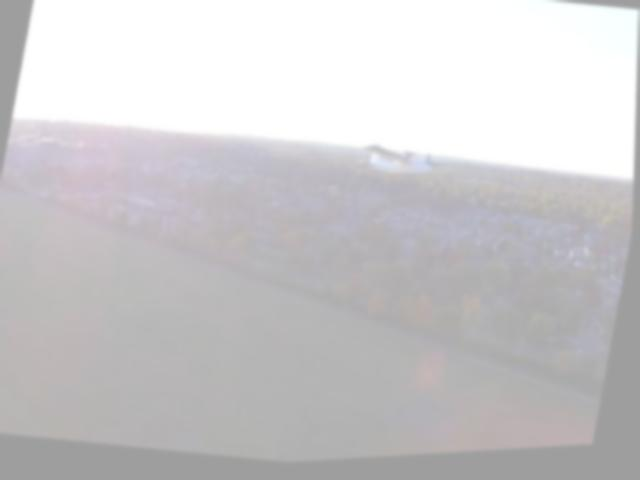uav: (353, 140, 453, 191)
